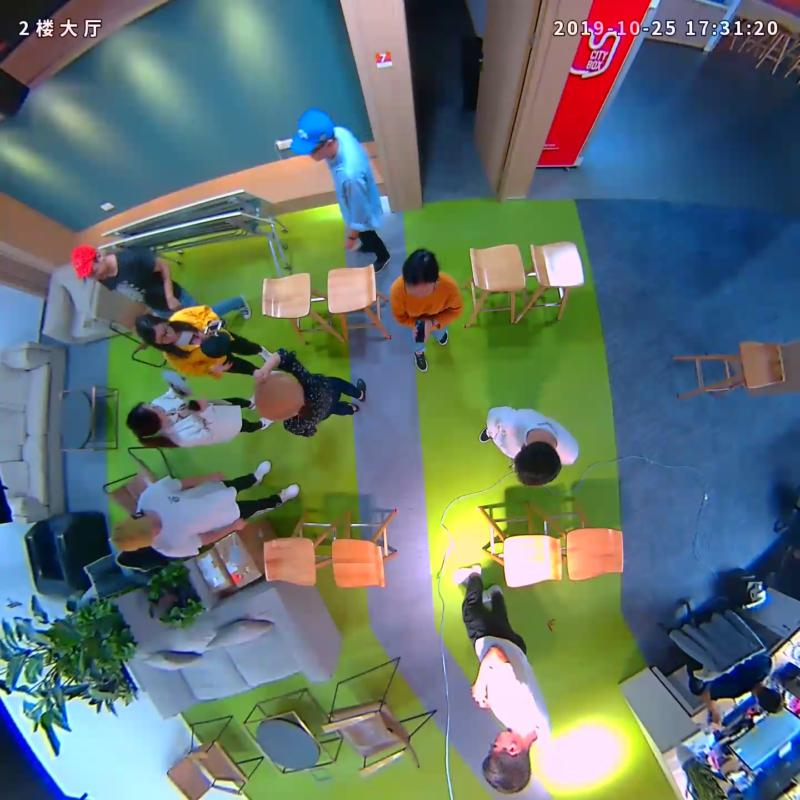head: (482, 729, 531, 794), (252, 370, 304, 422), (288, 110, 334, 164), (512, 440, 562, 487), (402, 248, 439, 300), (111, 514, 158, 553), (133, 313, 178, 347), (126, 401, 168, 437), (70, 244, 108, 281)
